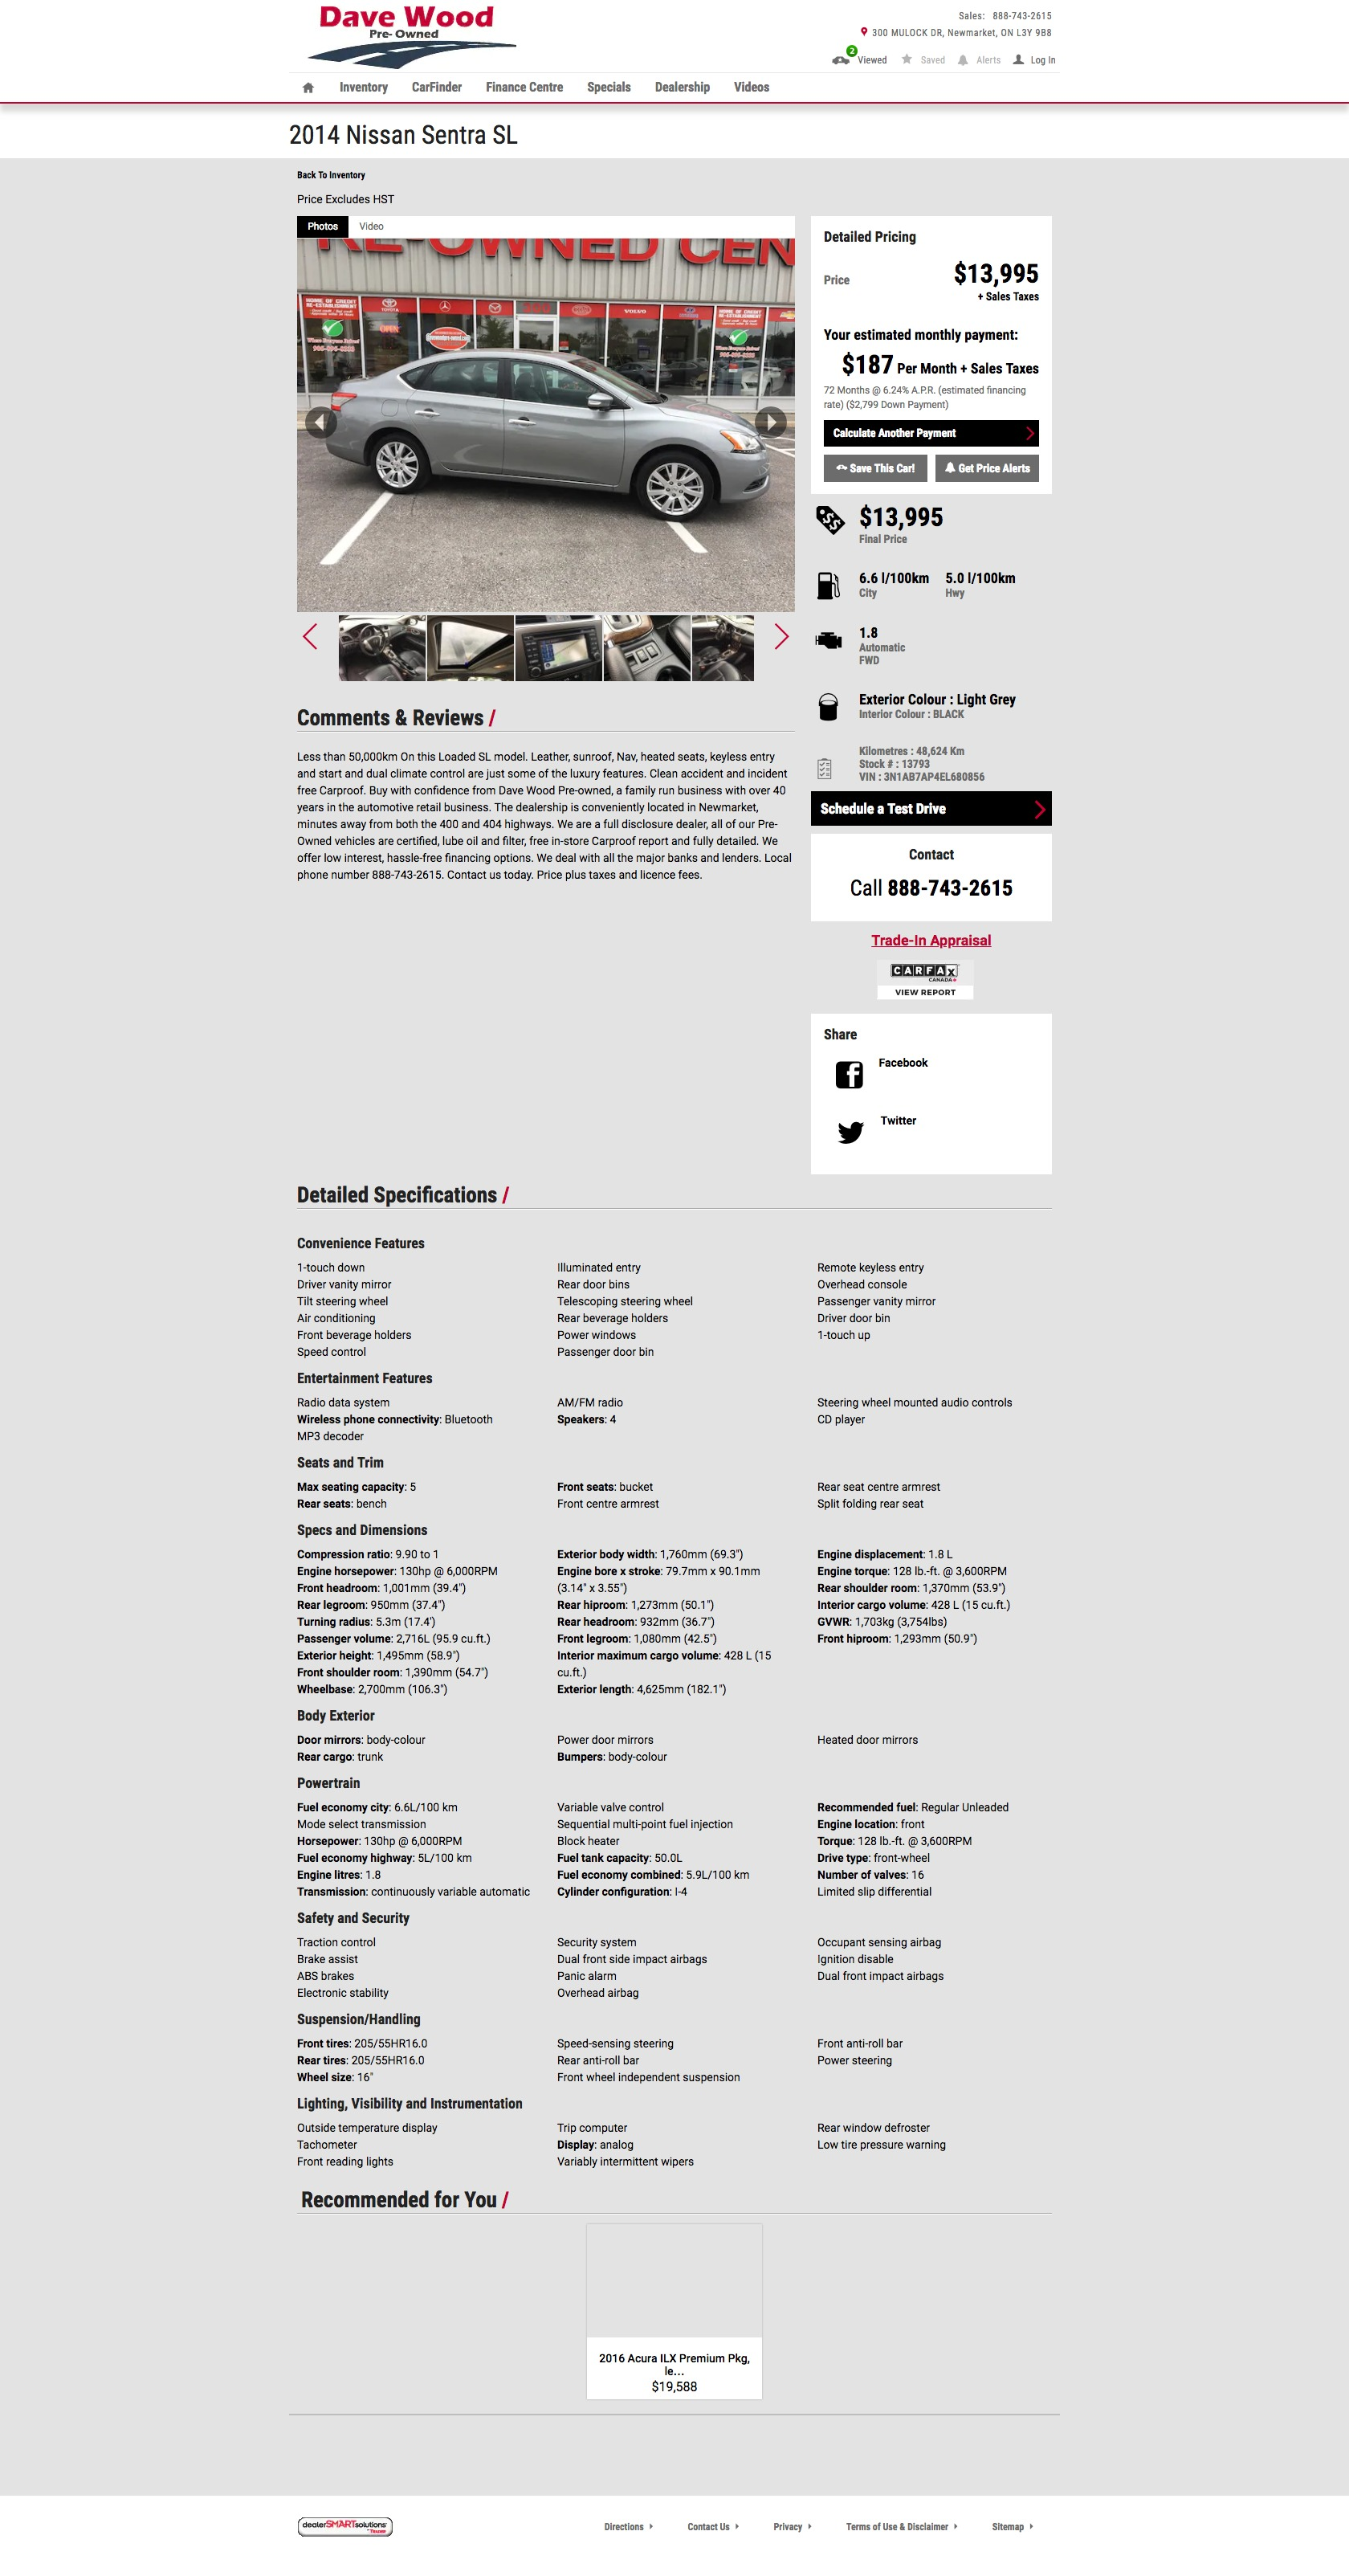car: (772, 622, 792, 653)
